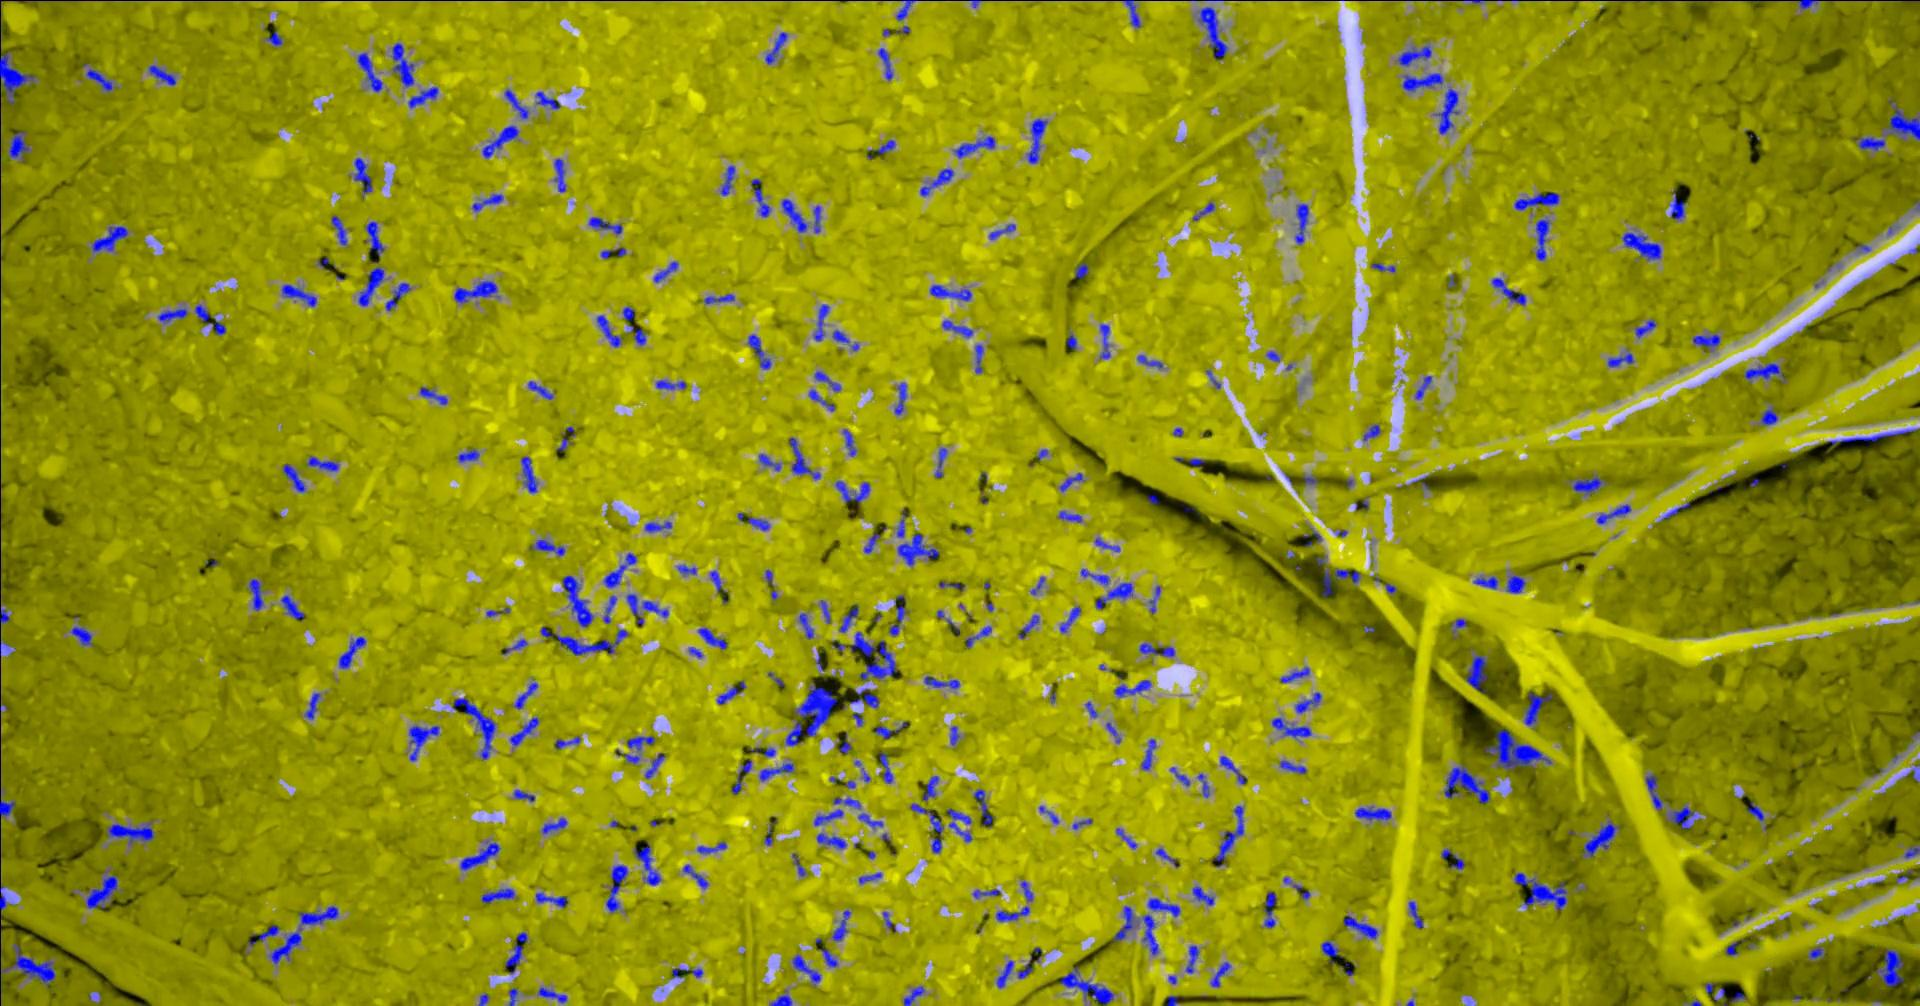ant: (269, 904, 338, 963), (0, 942, 55, 993), (451, 697, 495, 760), (540, 626, 627, 655), (850, 631, 899, 680), (1059, 967, 1112, 1005), (1512, 873, 1566, 909), (0, 50, 34, 104), (1213, 805, 1243, 866), (1443, 765, 1490, 803), (1827, 427, 1919, 445), (561, 575, 593, 626), (1197, 6, 1227, 58), (897, 533, 938, 565), (626, 593, 668, 625), (1583, 821, 1619, 857), (1887, 98, 1919, 138), (789, 437, 820, 478), (458, 841, 500, 870), (357, 260, 383, 306), (483, 124, 518, 158), (634, 842, 660, 885), (603, 553, 636, 587), (1622, 232, 1661, 260), (408, 725, 439, 760), (86, 874, 117, 909), (604, 864, 627, 911), (1321, 568, 1359, 596), (910, 803, 943, 835), (1435, 88, 1458, 133), (1876, 949, 1903, 986), (1523, 691, 1552, 725), (357, 52, 382, 91), (1095, 582, 1131, 608), (455, 279, 497, 302), (504, 931, 527, 973), (105, 823, 152, 843), (91, 225, 127, 251), (194, 304, 225, 334), (919, 168, 952, 196), (781, 198, 808, 232), (1491, 277, 1525, 304), (392, 42, 413, 86), (1027, 118, 1048, 163), (622, 306, 645, 345), (954, 136, 994, 158), (509, 716, 538, 746), (791, 955, 820, 984), (338, 636, 364, 668), (747, 333, 770, 370), (946, 808, 971, 841), (1271, 716, 1310, 737), (1743, 363, 1785, 382), (1465, 654, 1487, 691), (1112, 904, 1134, 941), (1514, 192, 1558, 210), (1342, 915, 1377, 937), (1219, 754, 1246, 784), (1402, 72, 1443, 91), (281, 285, 316, 306), (764, 30, 787, 64), (1397, 44, 1431, 66), (596, 315, 620, 345), (750, 178, 770, 216), (973, 789, 992, 827), (248, 923, 279, 946), (888, 594, 905, 635), (836, 480, 869, 502), (385, 282, 410, 310), (504, 89, 528, 118), (716, 680, 745, 704), (353, 158, 371, 197), (1596, 504, 1630, 525), (364, 221, 383, 257), (1114, 680, 1150, 697), (731, 760, 750, 794), (1142, 915, 1158, 954), (930, 285, 971, 300), (282, 464, 305, 492), (1644, 774, 1662, 809), (759, 762, 792, 781), (408, 86, 438, 107), (8, 131, 28, 161), (682, 864, 707, 888), (588, 216, 622, 234), (808, 389, 834, 412), (514, 682, 537, 709), (813, 304, 829, 340), (830, 909, 850, 941), (697, 627, 726, 648), (521, 456, 537, 492), (737, 512, 770, 530), (530, 539, 565, 555), (1147, 898, 1180, 916), (1535, 218, 1549, 260), (279, 594, 303, 619), (86, 69, 112, 91), (965, 625, 990, 648), (866, 138, 894, 159), (1294, 203, 1308, 244), (874, 721, 907, 738), (149, 65, 175, 85), (472, 193, 503, 211), (1572, 476, 1603, 494), (1059, 606, 1079, 633), (1294, 692, 1321, 713), (644, 752, 664, 779), (1661, 500, 1689, 520), (839, 605, 858, 633), (850, 688, 877, 708), (653, 260, 677, 282), (1670, 189, 1688, 218), (1079, 568, 1109, 586), (537, 987, 566, 1005), (1354, 807, 1390, 821), (814, 371, 841, 390), (813, 809, 843, 826), (535, 892, 568, 907), (996, 906, 1029, 921), (419, 386, 447, 404), (1139, 641, 1175, 655), (1670, 807, 1693, 828), (1321, 940, 1342, 963), (1440, 848, 1464, 869), (306, 456, 338, 471), (1059, 473, 1084, 492), (248, 578, 263, 610), (942, 320, 971, 337), (1280, 666, 1309, 682), (924, 674, 959, 688), (1123, 0, 1140, 27), (996, 960, 1013, 987), (1263, 890, 1276, 927), (1115, 827, 1137, 848), (1018, 615, 1039, 638), (1140, 738, 1156, 768), (877, 47, 891, 80), (1851, 136, 1884, 150), (1691, 334, 1719, 351), (481, 888, 514, 902), (1210, 962, 1229, 986), (527, 381, 552, 399), (157, 307, 187, 323), (817, 833, 846, 848), (70, 626, 93, 645), (720, 165, 734, 196), (535, 91, 560, 108), (552, 158, 565, 191), (922, 775, 938, 800), (541, 817, 566, 833), (897, 0, 917, 20), (903, 986, 924, 1005), (331, 215, 345, 244), (988, 224, 1015, 239), (797, 612, 813, 639), (1156, 848, 1178, 866), (879, 751, 891, 782), (1415, 375, 1431, 399), (858, 812, 883, 828), (626, 735, 654, 749), (1408, 901, 1422, 929), (1634, 319, 1655, 338), (303, 694, 319, 719), (817, 948, 837, 967), (1192, 202, 1214, 220), (842, 429, 856, 456), (1279, 760, 1305, 774), (1185, 945, 1199, 972), (697, 841, 726, 854), (1017, 954, 1032, 978), (894, 382, 905, 414), (670, 967, 702, 978), (1098, 323, 1109, 358), (1037, 805, 1058, 823), (1192, 887, 1213, 904), (758, 453, 780, 470), (1608, 352, 1633, 366), (1137, 354, 1162, 368), (603, 594, 616, 622), (935, 447, 946, 478), (1506, 575, 1525, 593), (554, 735, 580, 748), (1170, 767, 1189, 785), (1724, 937, 1743, 955), (1095, 537, 1119, 551), (615, 749, 639, 763), (504, 639, 527, 653), (791, 854, 805, 876), (1746, 801, 1763, 821), (703, 293, 734, 304), (1105, 721, 1120, 742), (1473, 575, 1497, 588), (644, 521, 670, 532), (833, 796, 860, 808), (837, 732, 851, 753), (897, 508, 907, 537), (971, 888, 1001, 898), (1760, 408, 1777, 426), (599, 246, 625, 258), (863, 533, 879, 553), (457, 448, 479, 461), (513, 789, 535, 801), (1363, 424, 1380, 439), (830, 329, 850, 343), (1197, 774, 1209, 796), (974, 344, 983, 373), (655, 380, 684, 389), (1020, 880, 1032, 901), (0, 883, 6, 920), (1058, 511, 1081, 521), (710, 570, 721, 591), (820, 600, 830, 622), (858, 873, 881, 883), (1074, 262, 1088, 278), (0, 799, 14, 815), (938, 580, 964, 589), (749, 747, 775, 756), (770, 995, 791, 1005), (1371, 262, 1396, 271), (265, 30, 281, 44), (813, 205, 820, 232), (1807, 945, 1823, 958), (677, 564, 696, 574), (949, 725, 959, 744), (1903, 846, 1919, 857), (1065, 333, 1076, 349), (931, 837, 941, 854), (1166, 995, 1182, 1005), (508, 987, 517, 1005), (1798, 0, 1818, 8), (0, 608, 9, 622)
